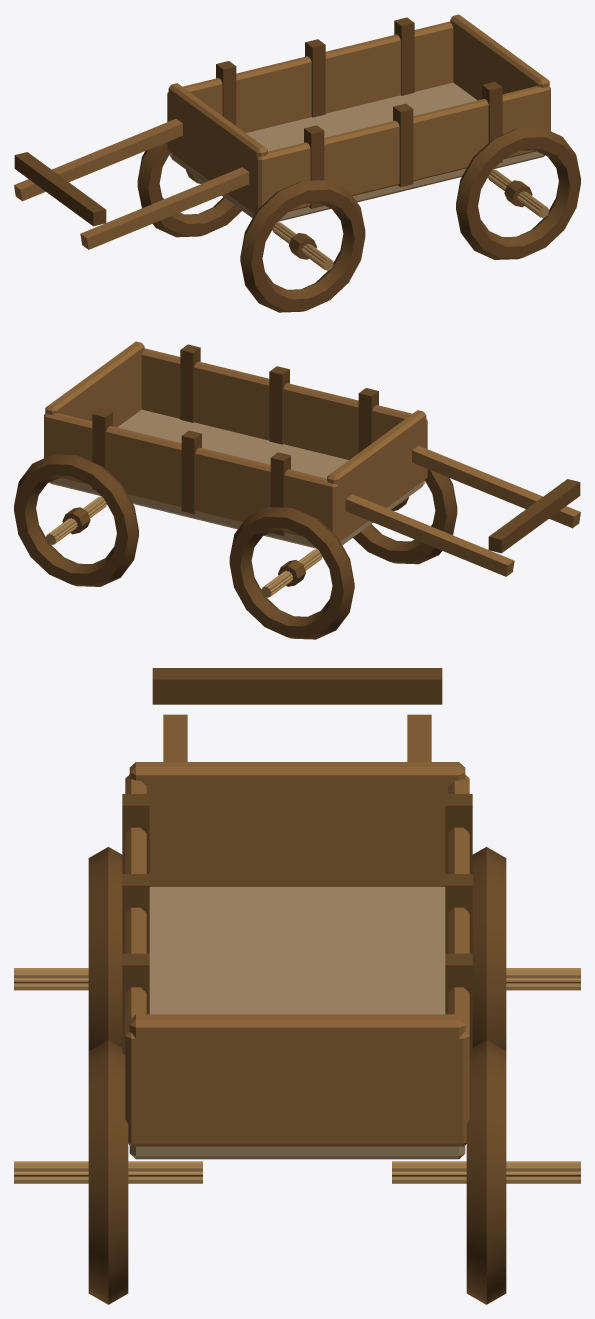
Rendered from hay_cart.glb.
3 views of the same model, one above another, from view 1: azimuth 30°, elevation 25°; view 2: azimuth 150°, elevation 25°; view 3: azimuth 270°, elevation 25° (orthographic). The views are drawn at different scales.
Visible parts, largest first — view 1: HayCart; view 2: HayCart; view 3: HayCart.
Boxes of the visible parts, x1,y1,x2,y2 form: HayCart: (14, 14, 580, 312); HayCart: (14, 341, 580, 639); HayCart: (14, 668, 580, 1304).
Bounding box in the file's own units: 3.33 × 1.14 × 1.86.
